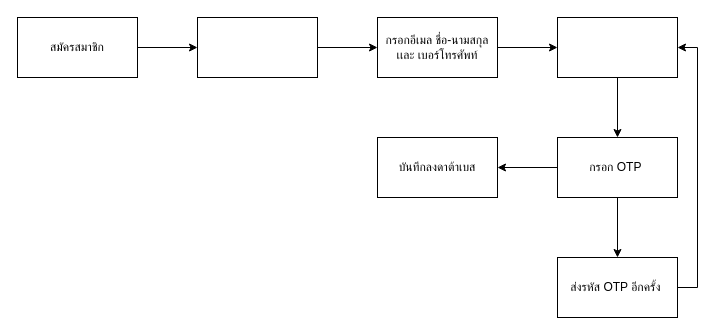
Some shapes in this 723 by 335 pixel diagram are drawn without their labels. The shapes that lost their labels are listed below. From the top down, each one's centre as x and y in pixels, then its label:
the point at 257,47: กรอกยูสเซอร์เมน เเละ พาสเวิร์ด
the point at 617,47: ส่ง SMS OTP
